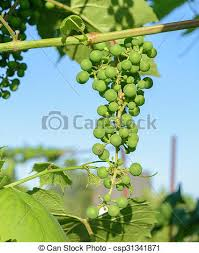grapes: (76, 21, 154, 198)
